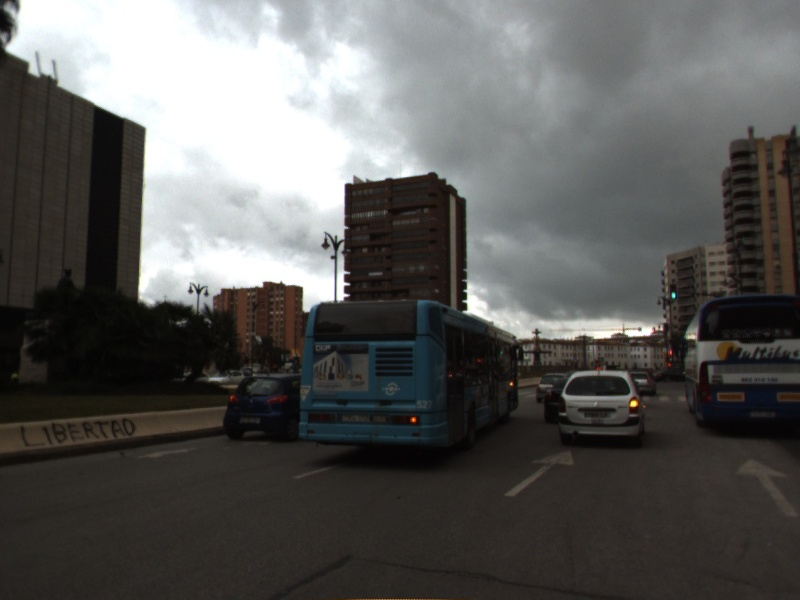STRAIGHT: (733, 456, 799, 518), (501, 448, 577, 498)
